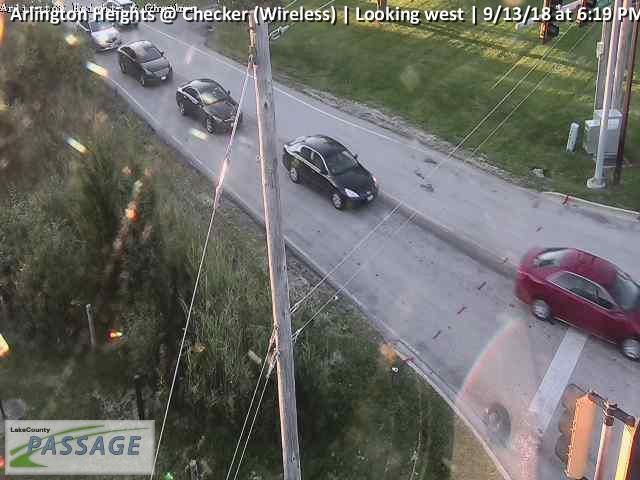Sedan: (513, 246, 640, 362), (282, 134, 378, 212), (175, 77, 243, 133), (118, 40, 171, 85), (71, 14, 118, 52), (99, 1, 139, 26)
